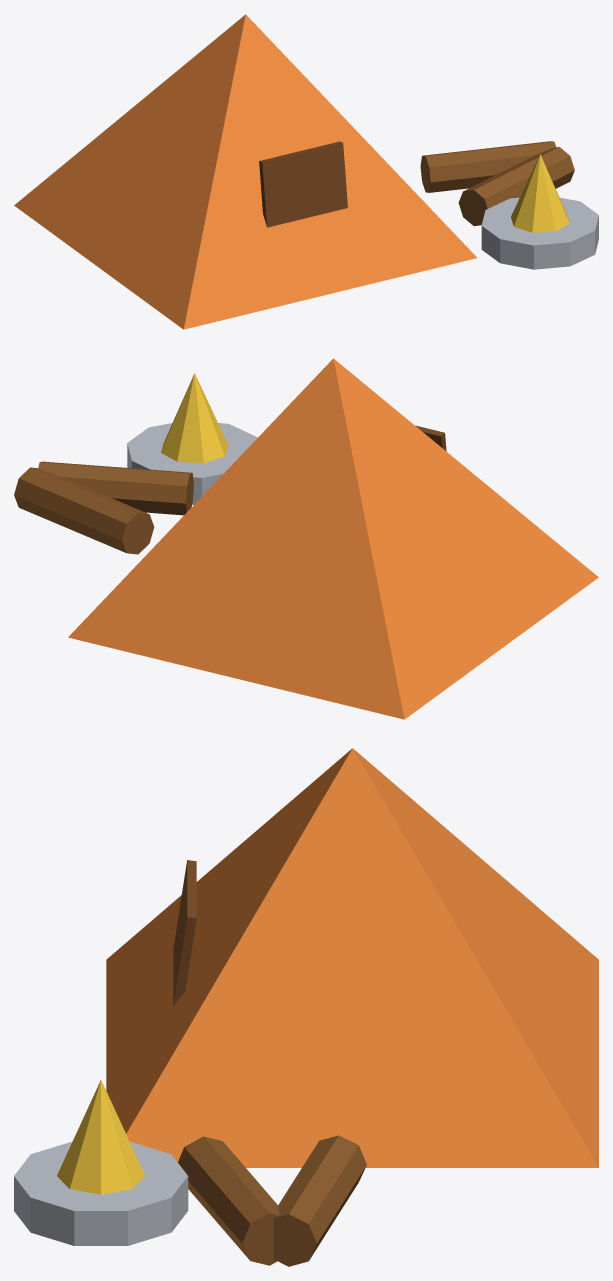
File: b_tent.glb
3 views of the same model, one above another, from view 1: azimuth 30°, elevation 25°; view 2: azimuth 150°, elevation 25°; view 3: azimuth 270°, elevation 25° (orthographic). The views are drawn at different scales.
Visible parts, largest first — view 1: Tent, Flap, Fire, Log2, Log1, Flame; view 2: Tent, Log2, Log1, Fire, Flame; view 3: Tent, Fire, Log2, Log1, Flame, Flap.
Part boxes in pixels (bbox=[...]): Tent: bbox=[14, 14, 476, 329]; Flap: bbox=[259, 141, 347, 227]; Fire: bbox=[481, 197, 598, 269]; Log2: bbox=[420, 141, 555, 192]; Log1: bbox=[458, 147, 574, 226]; Flame: bbox=[511, 154, 569, 232]; Tent: bbox=[68, 358, 598, 719]; Log2: bbox=[14, 467, 154, 554]; Log1: bbox=[38, 461, 193, 515]; Fire: bbox=[127, 423, 257, 504]; Flame: bbox=[161, 373, 228, 463]; Tent: bbox=[106, 748, 598, 1167]; Fire: bbox=[14, 1141, 188, 1245]; Log2: bbox=[273, 1135, 366, 1266]; Log1: bbox=[178, 1136, 279, 1265]; Flame: bbox=[57, 1080, 145, 1194]; Flap: bbox=[173, 860, 196, 1005].
Bounding box in the file's own units: 3.79 × 1.8 × 3.02.
